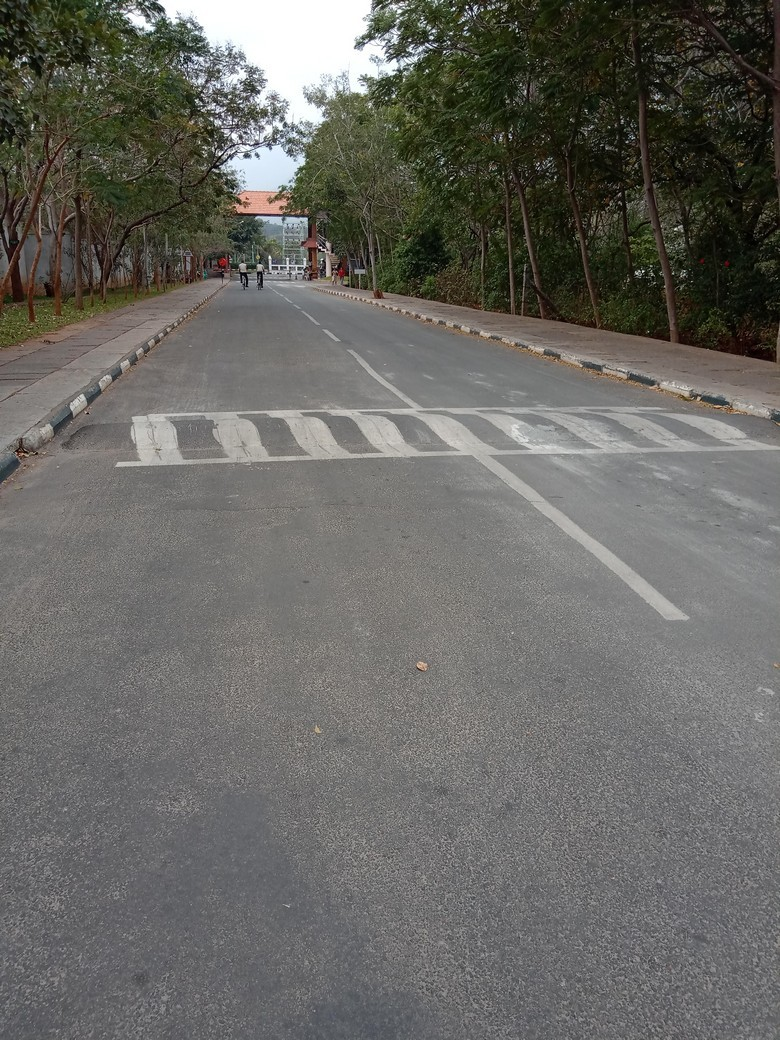bump: (57, 408, 780, 459)
